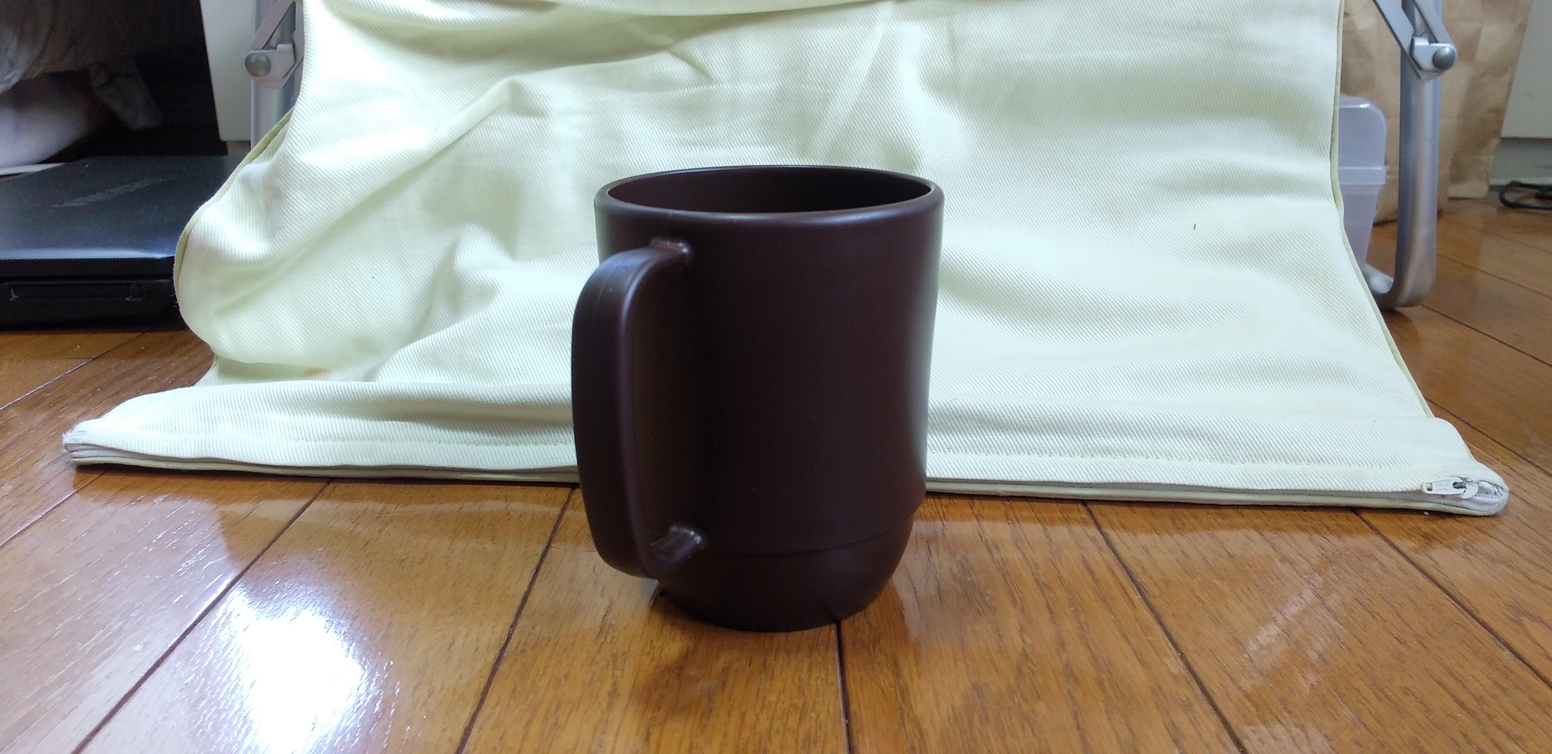mug-real100-3d100: (571, 166, 943, 631)
